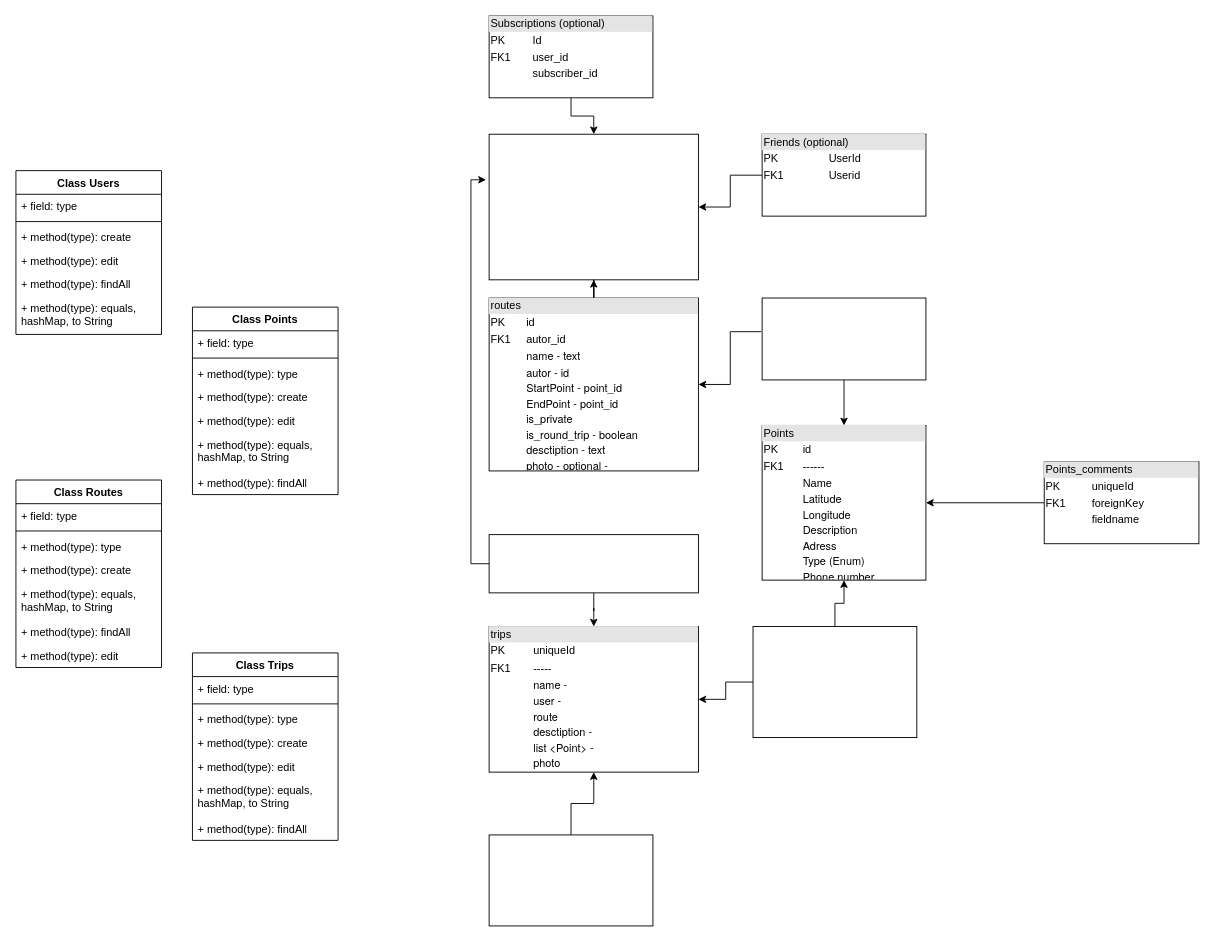
The diagram is 1215 pixels wide and 942 high, and some of its shapes have lost their labels. The centre of each missing label's shape, as x and y in pixels:
"companions PK trip_Id FK1 user_id" goes at pixel 593 563.
"route_points PK route_id point_id FK1" goes at pixel 843 338.
"trip_comments PK Id FK trip_id comment user date" goes at pixel 570 880.
"trip_points PK trip_Id point_id FK1 ------ Name Description is_done" goes at pixel 834 682.
"U sers PK Id FK - Name Surname E-mail Phone number Country City Age" goes at pixel 593 206.
